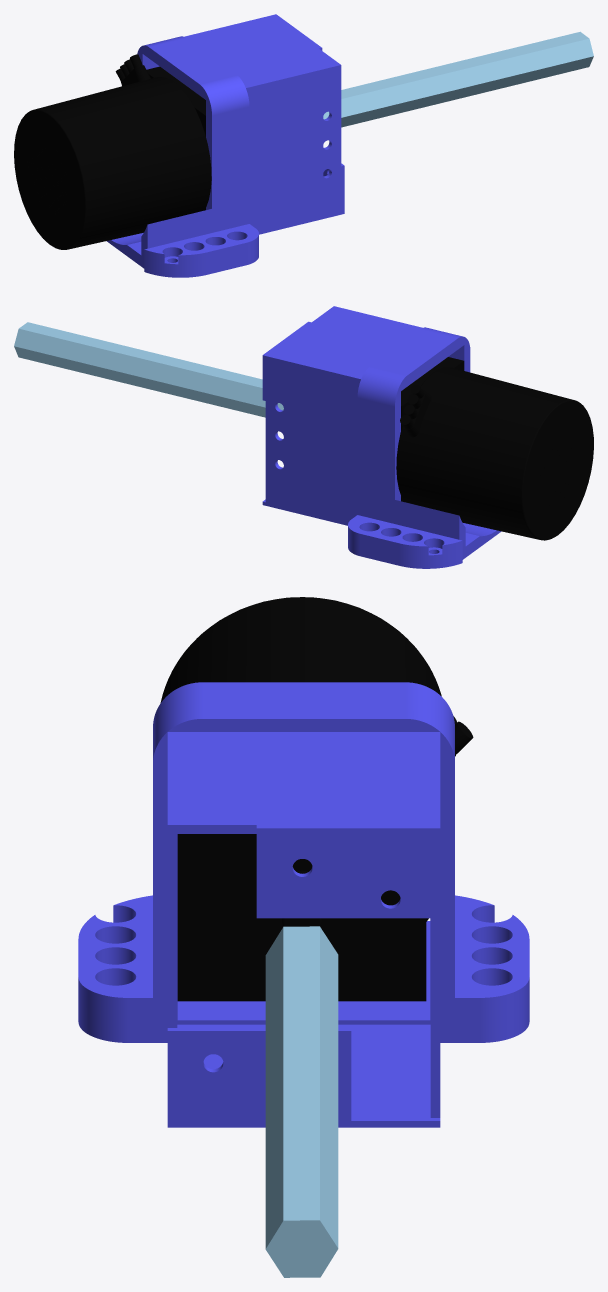
Rendered from Shoulder_pitch.dae.
3 views of the same model, one above another, from view 1: azimuth 30°, elevation 25°; view 2: azimuth 150°, elevation 25°; view 3: azimuth 270°, elevation 25° (orthographic). The views are drawn at different scales.
Parts seen in each view (by area): view 1: Part 2, REV-21-1650, Part 1; view 2: Part 2, REV-21-1650, Part 1; view 3: Part 2, REV-21-1650, Part 1.
Boxes of the visible parts, x1,y1,x2,y2 form: Part 2: (106,14,344,277); REV-21-1650: (14,54,211,249); Part 1: (323,31,593,127); Part 2: (262,306,501,568); REV-21-1650: (396,357,593,540); Part 1: (14,322,283,417); Part 2: (78,682,529,1127); REV-21-1650: (160,597,473,1001); Part 1: (265,926,338,1277).
Size of the model in its own units: 0.2489 by 0.0908 by 0.072.
